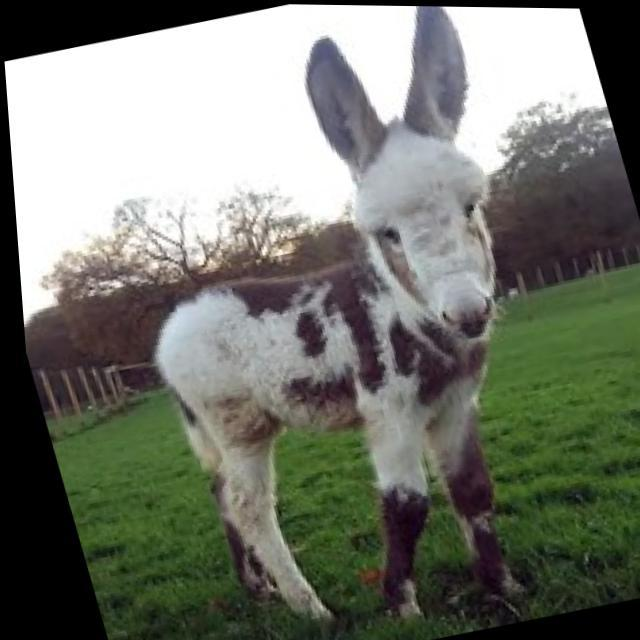Donkey: (62, 1, 613, 640)
